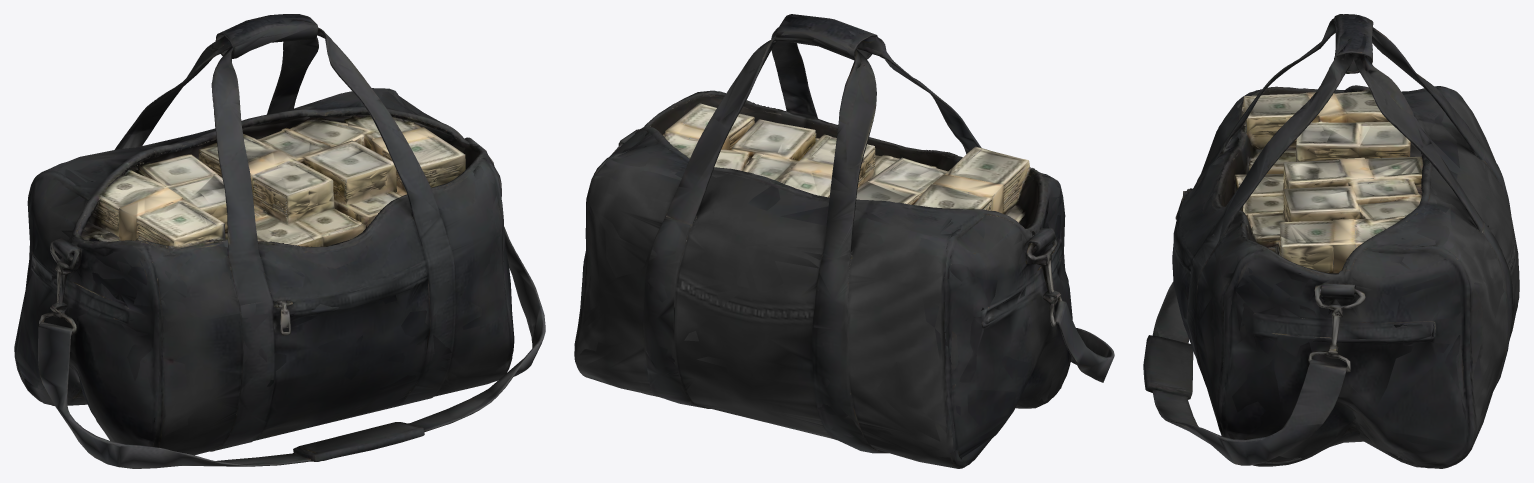
Rendered from cash-bag.glb.
3 renders of one model, left to right at view 1: azimuth 30°, elevation 25°; view 2: azimuth 150°, elevation 25°; view 3: azimuth 270°, elevation 25°, orthographic. The views are drawn at different scales.
Size of the model in its own units: 2 by 1.5 by 1.41.
1 material, 1 textured.
